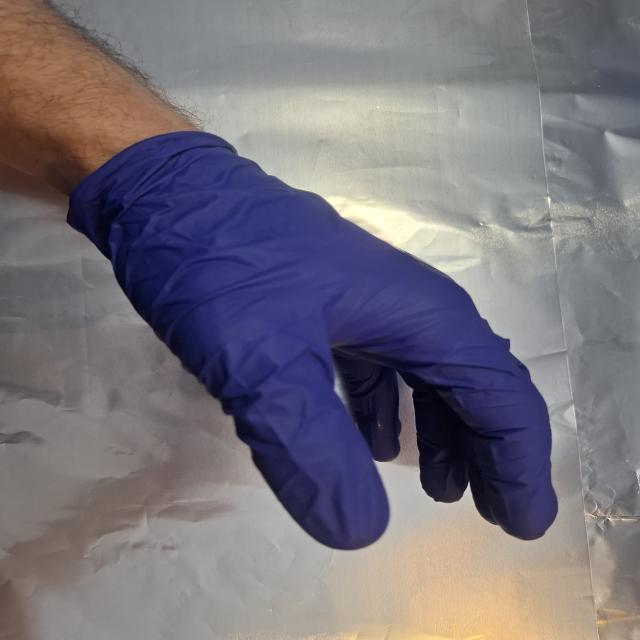glove_on: (79, 129, 564, 554)
